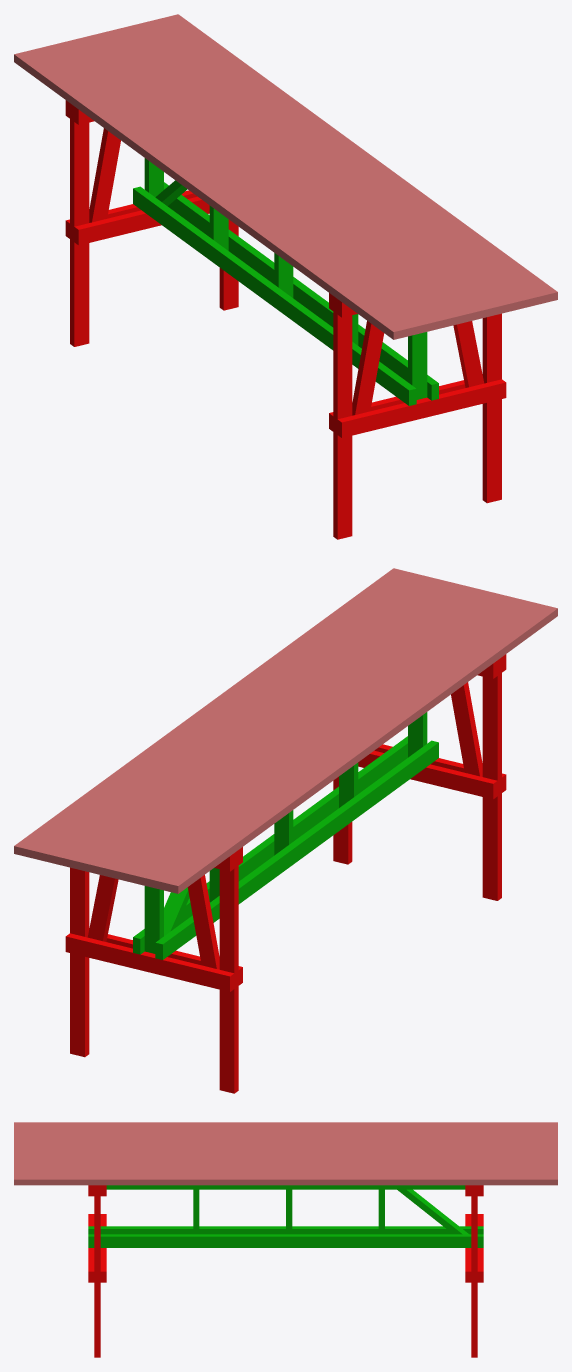
Rendered from result.glb.
3 views of the same model, one above another, from view 1: azimuth 30°, elevation 25°; view 2: azimuth 150°, elevation 25°; view 3: azimuth 270°, elevation 25° (orthographic). The views are drawn at different scales.
Parts seen in each view (by area): view 1: 128540f2-ac09-43d7-a78b-015d932d6e7f__Box, 937afa26-4729-42b2-9c04-5773778d2a90__undefined, 815d86b2-a406-408f-b215-d1a7330af23f__undefined, f0c59958-22f2-4a6a-97d0-a4cbb89eee2d__undefined, 9662627e-9e72-4534-a63c-d5fa076604dd__undefined, bad2ad65-391d-4045-97c0-896c60ca7534__undefined, 583123a6-eeca-4000-abd7-4401e7d6ade1__undefined, ea382738-b894-4018-b7f4-436c465c7334__undefined, 000a5cdc-b05b-4649-9f18-275aed6833bf__undefined, 94b7f32c-50a9-44d3-9d74-9c694407dc63__undefined, 9ef7b1c8-e33e-41e4-bc4c-2e790b032097__undefined, fd2db2ad-be80-48e6-a1a9-b128bf31f5f2__strutH (+13 smaller); view 2: 128540f2-ac09-43d7-a78b-015d932d6e7f__Box, 937afa26-4729-42b2-9c04-5773778d2a90__undefined, 815d86b2-a406-408f-b215-d1a7330af23f__undefined, f0c59958-22f2-4a6a-97d0-a4cbb89eee2d__undefined, 9662627e-9e72-4534-a63c-d5fa076604dd__undefined, bad2ad65-391d-4045-97c0-896c60ca7534__undefined, 583123a6-eeca-4000-abd7-4401e7d6ade1__undefined, ea382738-b894-4018-b7f4-436c465c7334__undefined, 000a5cdc-b05b-4649-9f18-275aed6833bf__undefined, 94b7f32c-50a9-44d3-9d74-9c694407dc63__undefined, 9ef7b1c8-e33e-41e4-bc4c-2e790b032097__undefined, fd2db2ad-be80-48e6-a1a9-b128bf31f5f2__strutH (+15 smaller); view 3: 9ef7b1c8-e33e-41e4-bc4c-2e790b032097__undefined, 2c9112ab-4c6d-4b01-9fdc-c90104f3c8ec__strutH, 128540f2-ac09-43d7-a78b-015d932d6e7f__Box, bad2ad65-391d-4045-97c0-896c60ca7534__undefined, f0c59958-22f2-4a6a-97d0-a4cbb89eee2d__undefined, 937afa26-4729-42b2-9c04-5773778d2a90__undefined, 815d86b2-a406-408f-b215-d1a7330af23f__undefined, ea382738-b894-4018-b7f4-436c465c7334__undefined, 9662627e-9e72-4534-a63c-d5fa076604dd__undefined, 000a5cdc-b05b-4649-9f18-275aed6833bf__undefined, 94b7f32c-50a9-44d3-9d74-9c694407dc63__undefined, fd2db2ad-be80-48e6-a1a9-b128bf31f5f2__strutH (+12 smaller).
Boxes of the visible parts, <box> form: 128540f2-ac09-43d7-a78b-015d932d6e7f__Box: <box>14,50,408,339</box>; 937afa26-4729-42b2-9c04-5773778d2a90__undefined: <box>74,36,468,325</box>; 815d86b2-a406-408f-b215-d1a7330af23f__undefined: <box>89,32,483,321</box>; f0c59958-22f2-4a6a-97d0-a4cbb89eee2d__undefined: <box>44,43,438,332</box>; 9662627e-9e72-4534-a63c-d5fa076604dd__undefined: <box>119,25,513,314</box>; bad2ad65-391d-4045-97c0-896c60ca7534__undefined: <box>29,47,423,335</box>; 583123a6-eeca-4000-abd7-4401e7d6ade1__undefined: <box>59,39,453,328</box>; ea382738-b894-4018-b7f4-436c465c7334__undefined: <box>104,29,498,317</box>; 000a5cdc-b05b-4649-9f18-275aed6833bf__undefined: <box>134,21,527,310</box>; 94b7f32c-50a9-44d3-9d74-9c694407dc63__undefined: <box>148,18,542,306</box>; 9ef7b1c8-e33e-41e4-bc4c-2e790b032097__undefined: <box>164,14,557,303</box>; fd2db2ad-be80-48e6-a1a9-b128bf31f5f2__strutH: <box>133,186,416,405</box>; 128540f2-ac09-43d7-a78b-015d932d6e7f__Box: <box>163,604,557,893</box>; 937afa26-4729-42b2-9c04-5773778d2a90__undefined: <box>103,590,497,879</box>; 815d86b2-a406-408f-b215-d1a7330af23f__undefined: <box>88,586,482,875</box>; f0c59958-22f2-4a6a-97d0-a4cbb89eee2d__undefined: <box>133,597,527,886</box>; 9662627e-9e72-4534-a63c-d5fa076604dd__undefined: <box>58,579,452,868</box>; bad2ad65-391d-4045-97c0-896c60ca7534__undefined: <box>148,601,542,889</box>; 583123a6-eeca-4000-abd7-4401e7d6ade1__undefined: <box>118,593,512,882</box>; ea382738-b894-4018-b7f4-436c465c7334__undefined: <box>73,583,467,871</box>; 000a5cdc-b05b-4649-9f18-275aed6833bf__undefined: <box>44,575,437,864</box>; 94b7f32c-50a9-44d3-9d74-9c694407dc63__undefined: <box>29,572,423,860</box>; 9ef7b1c8-e33e-41e4-bc4c-2e790b032097__undefined: <box>14,568,407,857</box>; fd2db2ad-be80-48e6-a1a9-b128bf31f5f2__strutH: <box>155,740,438,959</box>; 9ef7b1c8-e33e-41e4-bc4c-2e790b032097__undefined: <box>14,1174,557,1185</box>; 2c9112ab-4c6d-4b01-9fdc-c90104f3c8ec__strutH: <box>88,1234,483,1247</box>; 128540f2-ac09-43d7-a78b-015d932d6e7f__Box: <box>14,1122,557,1127</box>; bad2ad65-391d-4045-97c0-896c60ca7534__undefined: <box>14,1127,557,1132</box>; f0c59958-22f2-4a6a-97d0-a4cbb89eee2d__undefined: <box>14,1132,557,1137</box>; 937afa26-4729-42b2-9c04-5773778d2a90__undefined: <box>14,1143,557,1148</box>; 815d86b2-a406-408f-b215-d1a7330af23f__undefined: <box>14,1148,557,1153</box>; ea382738-b894-4018-b7f4-436c465c7334__undefined: <box>14,1153,557,1158</box>; 9662627e-9e72-4534-a63c-d5fa076604dd__undefined: <box>14,1158,557,1163</box>; 000a5cdc-b05b-4649-9f18-275aed6833bf__undefined: <box>14,1164,557,1169</box>; 94b7f32c-50a9-44d3-9d74-9c694407dc63__undefined: <box>14,1169,557,1174</box>; fd2db2ad-be80-48e6-a1a9-b128bf31f5f2__strutH: <box>88,1226,483,1234</box>.
Bounding box in the file's own units: 550 × 795 × 2200.
